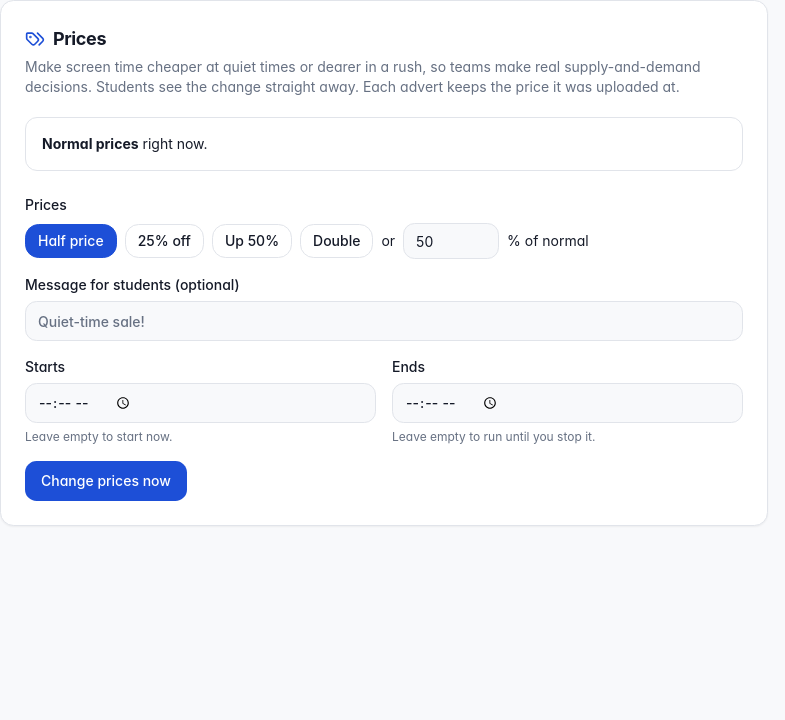
PricesPanel (issue #41) › shows normal prices and previews a change before making it
The image size is (785, 720).
Expected: the text "Normal prices" is shown, [42,135,139,152]
Click the button "Double" at (337, 241), box [300,224,373,258]
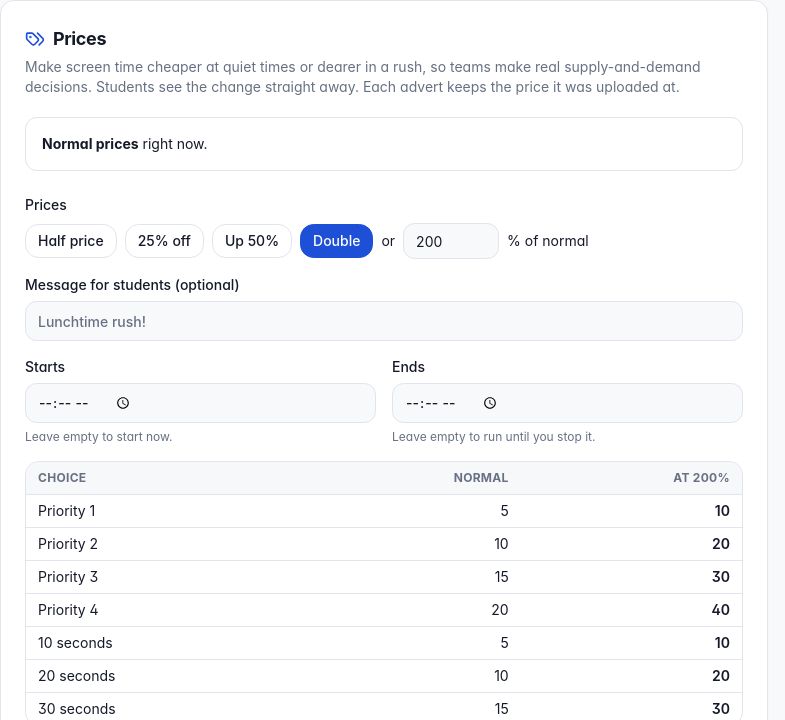
Expected: the column heading "At 200%" is shown, [521,462,742,494]
Expected: the text "40" is shown, [521,594,742,626]
